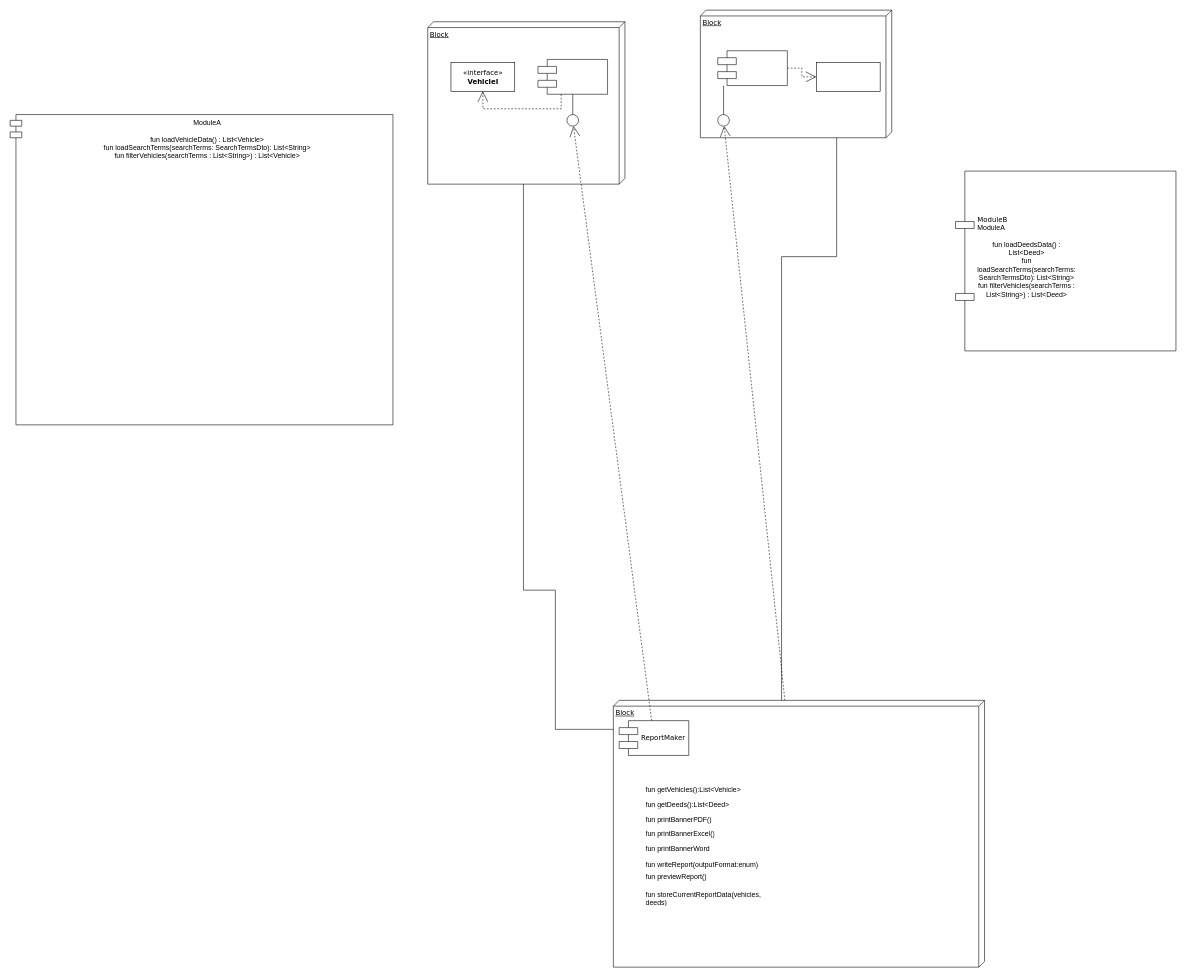
Some shapes in this 1186 by 977 pixel diagram are drawn without their labels. Here are the shapes that lost their labels. From the top down, the centre of each, then its label:
At pixel 572 76: "ModuleA".
At pixel 752 68: "ModuleB".
At pixel 848 76: "«interface» DeedsI".
